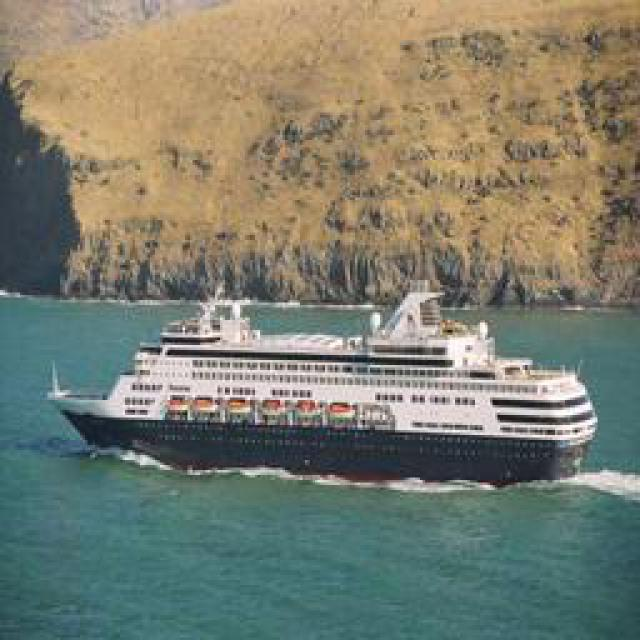Ship: (46, 294, 586, 479)
